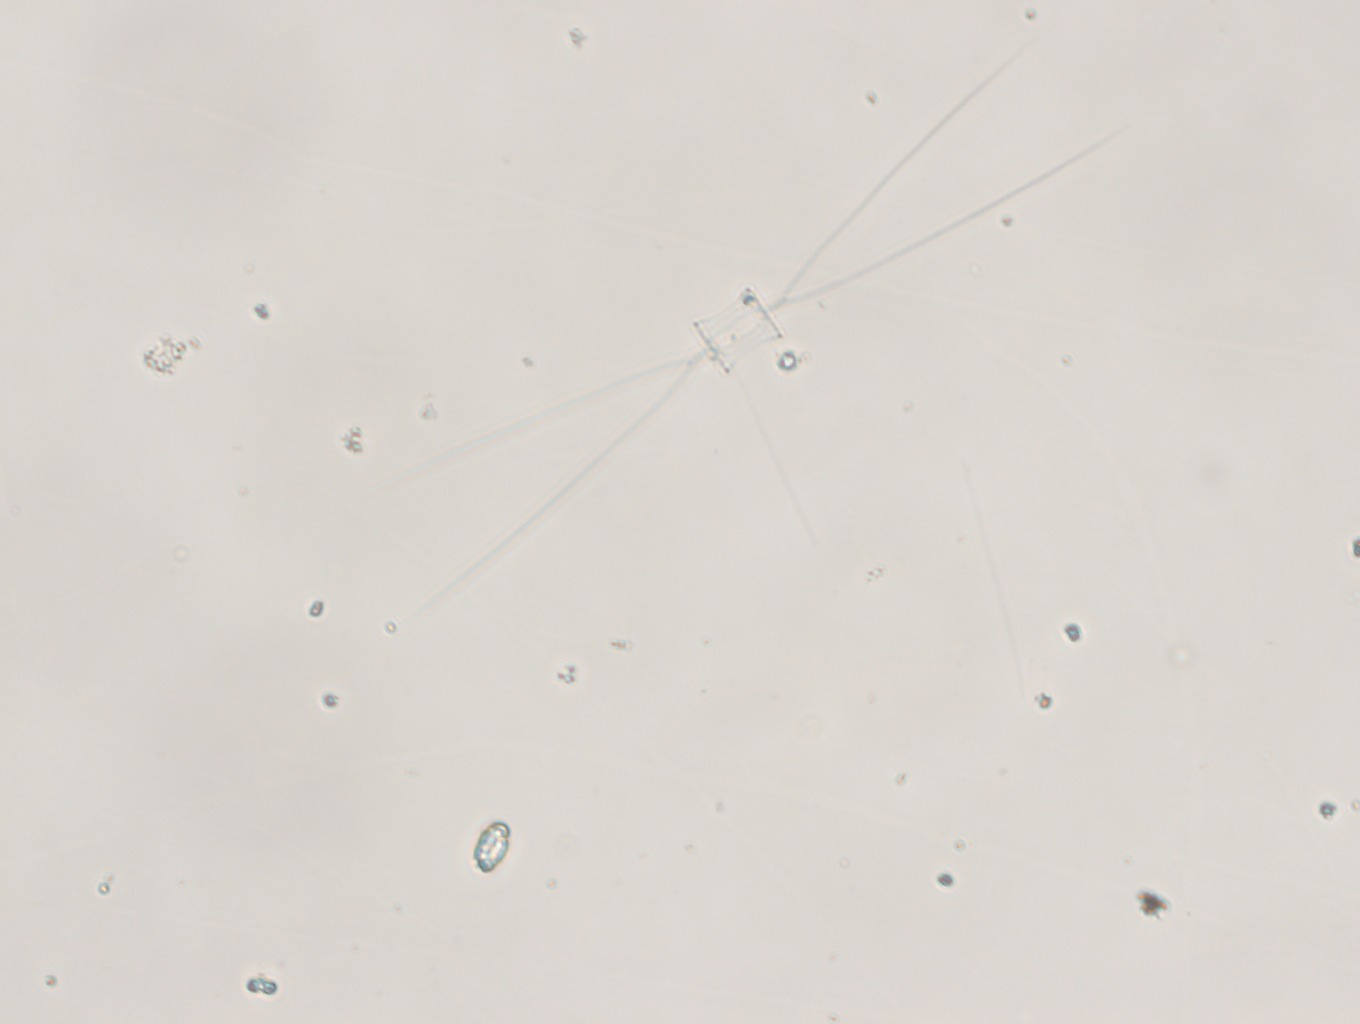chaetoceros: (370, 63, 1119, 594)
